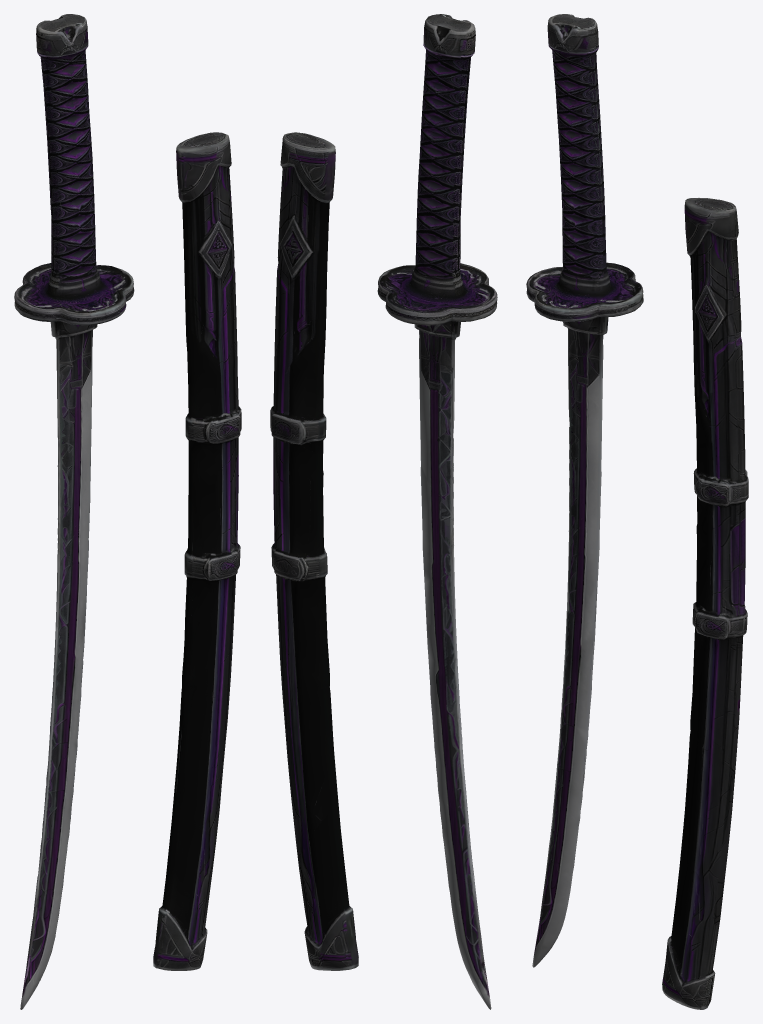
The model's file is violet-tempest.glb.
3 renders of one model, left to right at view 1: azimuth 30°, elevation 25°; view 2: azimuth 150°, elevation 25°; view 3: azimuth 330°, elevation 25°, orthographic. The views are drawn at different scales.
Parts seen in each view (by area): view 1: Mesh1.0; view 2: Mesh1.0; view 3: Mesh1.0.
Boxes of the visible parts, x1,y1,x2,y2 form: Mesh1.0: (14,14,241,1009); Mesh1.0: (270,14,497,1009); Mesh1.0: (526,14,748,1009).
Bounding box in the file's own units: 0.448 × 1.9 × 0.2234.
1 material, 1 textured.
